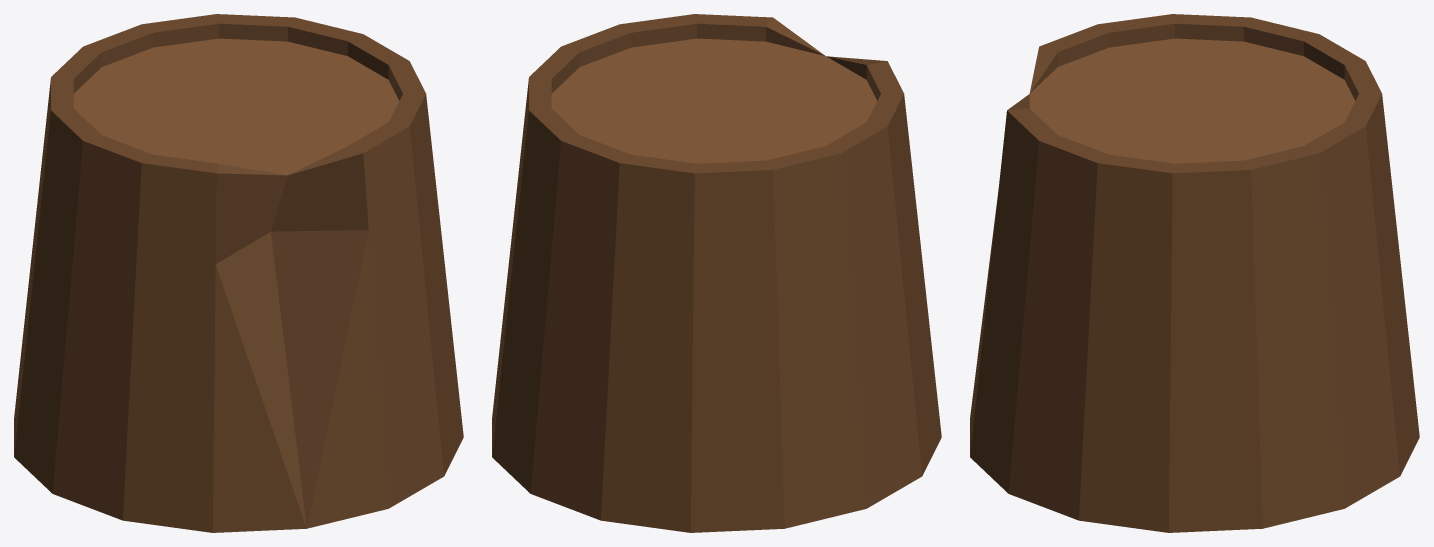
File: Tree_Trunk_8_Light_Brown.fbx
3 renders of one model, left to right at view 1: azimuth 30°, elevation 25°; view 2: azimuth 150°, elevation 25°; view 3: azimuth 270°, elevation 25°, orthographic.
Parts seen in each view (by area): view 1: Tree_Trunk_8_Light_Brown; view 2: Tree_Trunk_8_Light_Brown; view 3: Tree_Trunk_8_Light_Brown.
Part boxes in pixels (box(x1,y1,x2,y2)): Tree_Trunk_8_Light_Brown: box(14, 14, 463, 532); Tree_Trunk_8_Light_Brown: box(492, 14, 941, 532); Tree_Trunk_8_Light_Brown: box(970, 14, 1419, 532).
Size of the model in its own units: 119 by 100 by 119.
